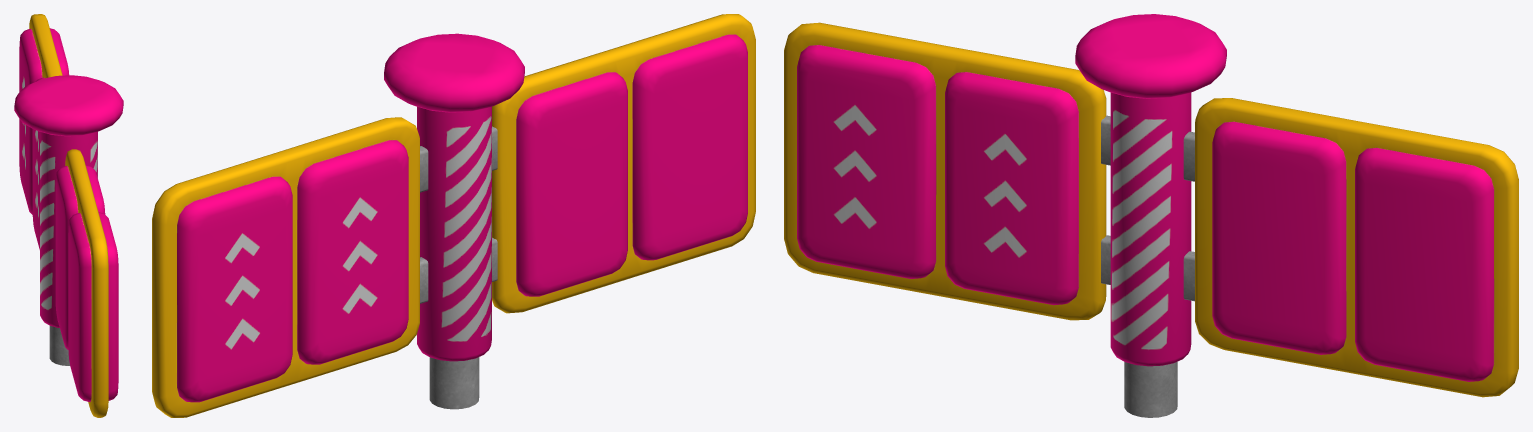
File: obstacle_flipper.glb
3 renders of one model, left to right at view 1: azimuth 30°, elevation 25°; view 2: azimuth 150°, elevation 25°; view 3: azimuth 270°, elevation 25°, orthographic. The views are drawn at different scales.
Parts seen in each view (by area): view 1: Cylinder; view 2: Cylinder; view 3: Cylinder.
Part boxes in pixels (bbox=[...]): Cylinder: bbox=[14, 14, 123, 417]; Cylinder: bbox=[152, 14, 755, 417]; Cylinder: bbox=[784, 14, 1518, 417].
Size of the model in its own units: 8.53 by 9.97 by 18.11.
Materials: 1 (1 with a texture image).
